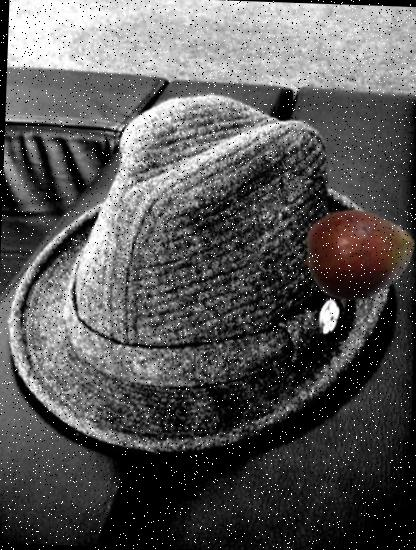Mango: (299, 193, 416, 313)
